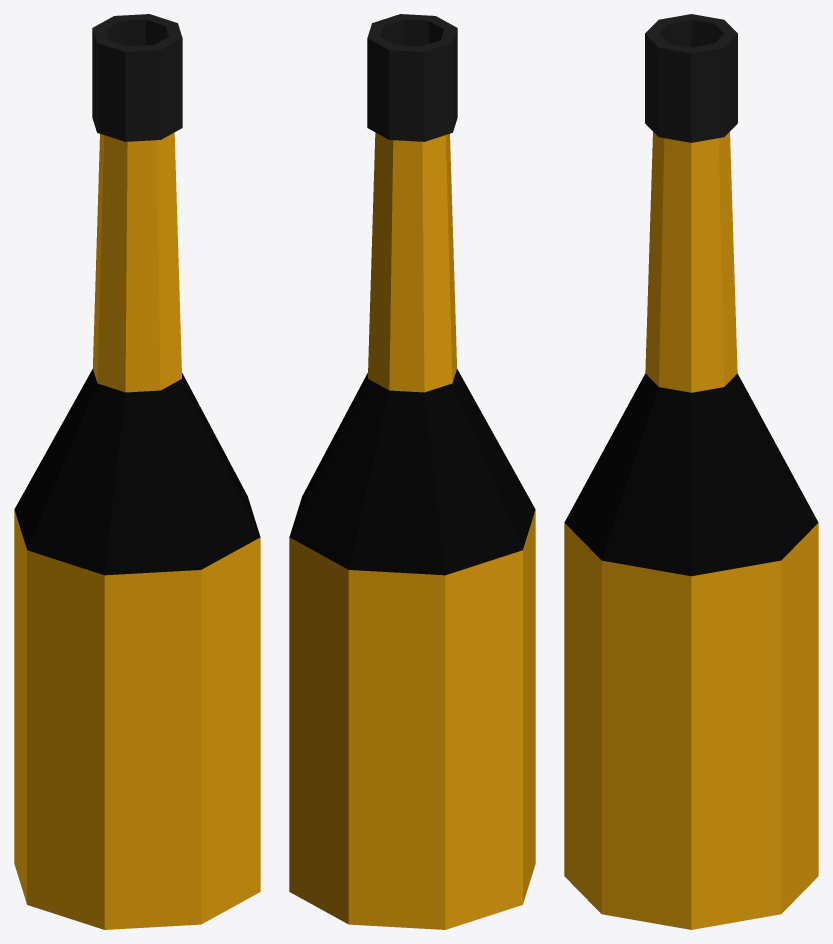
File: GlassBottle_03.fbx
3 renders of one model, left to right at view 1: azimuth 30°, elevation 25°; view 2: azimuth 150°, elevation 25°; view 3: azimuth 270°, elevation 25°, orthographic.
Visible parts, largest first — view 1: GlassBottle_03; view 2: GlassBottle_03; view 3: GlassBottle_03.
Part boxes in pixels (left/top/right/bottom): GlassBottle_03: left=14, top=14, right=260, bottom=929; GlassBottle_03: left=289, top=14, right=535, bottom=929; GlassBottle_03: left=564, top=14, right=818, bottom=929.
Size of the model in its own units: 16.97 by 62.09 by 16.97.
